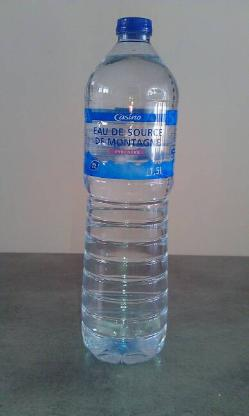Plastic Bottle: (71, 6, 187, 366)
